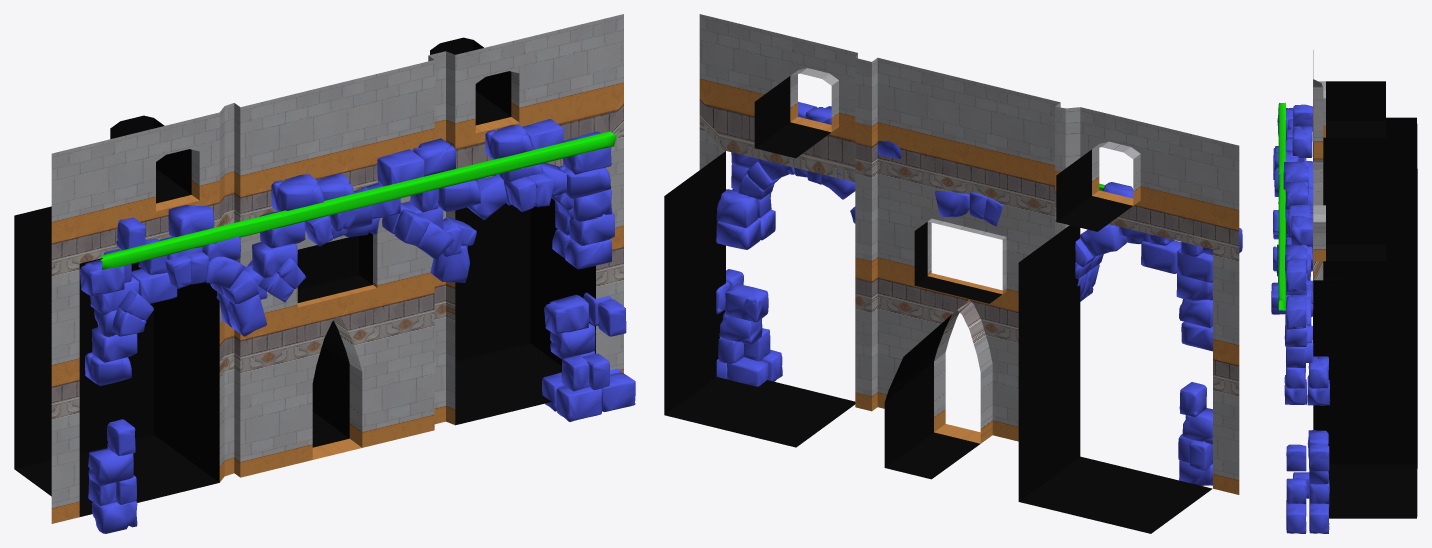
The model's file is SM_Prison_Wall_destroyed.fbx.
3 views of the same model, side by side, from view 1: azimuth 30°, elevation 25°; view 2: azimuth 150°, elevation 25°; view 3: azimuth 270°, elevation 25° (orthographic). The views are drawn at different scales.
Visible parts, largest first — view 1: SM_Prison_Wall_destroyed; view 2: SM_Prison_Wall_destroyed; view 3: SM_Prison_Wall_destroyed.
Part boxes in pixels (bbox=[...]): SM_Prison_Wall_destroyed: bbox=[14, 14, 635, 533]; SM_Prison_Wall_destroyed: bbox=[664, 14, 1242, 533]; SM_Prison_Wall_destroyed: bbox=[1271, 50, 1417, 533].
Size of the model in its own units: 16.86 by 10.68 by 4.7.
